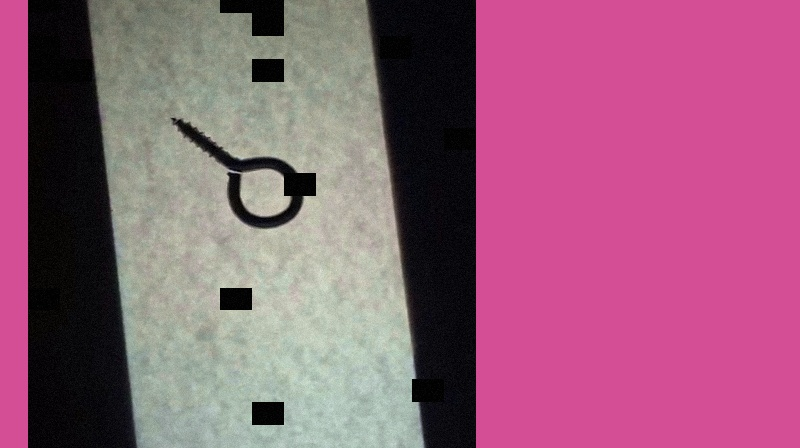O001: (168, 115, 306, 232)
